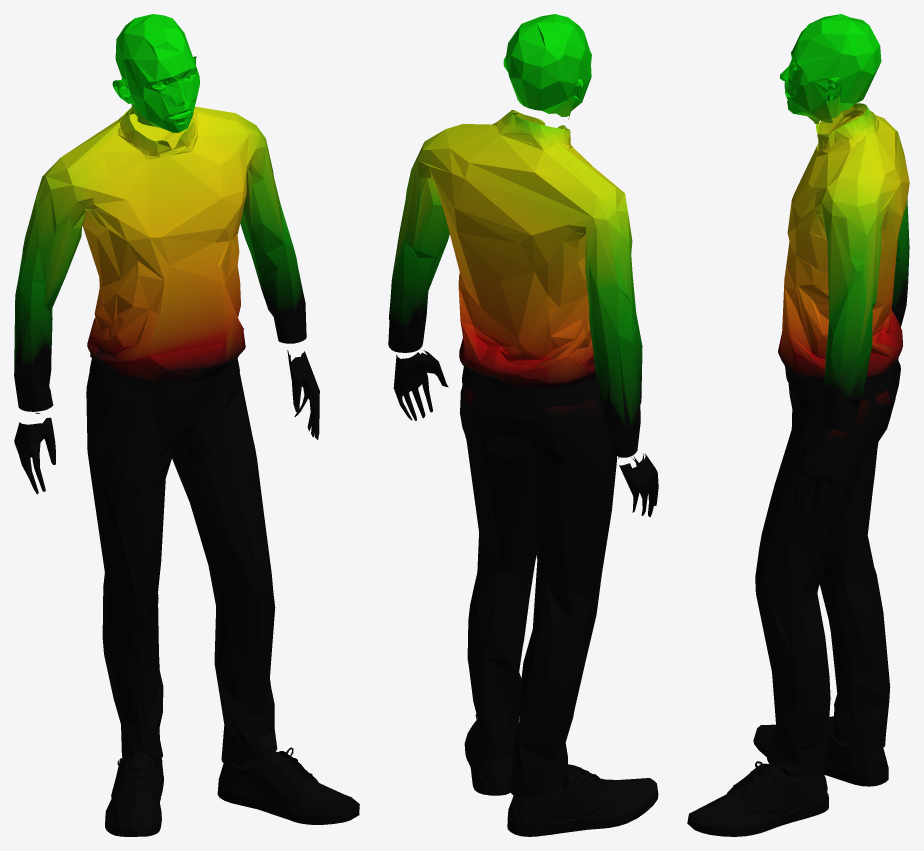
Rendered from Leonard_Idle.glb.
The picture shows the model from 3 angles, left to right: view 1: azimuth 30°, elevation 25°; view 2: azimuth 150°, elevation 25°; view 3: azimuth 270°, elevation 25°; orthographic projection. The views are drawn at different scales.
Visible parts, largest first — view 1: full30; view 2: full30; view 3: full30.
Boxes of the visible parts, bbox=[...] form: full30: bbox=[14, 14, 359, 836]; full30: bbox=[388, 14, 658, 836]; full30: bbox=[687, 14, 909, 836].
Bounding box in the file's own units: 0.6714 × 1.84 × 0.4886.
